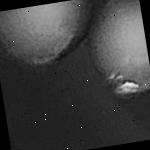colony: (0, 0, 127, 83), (72, 0, 150, 111)
